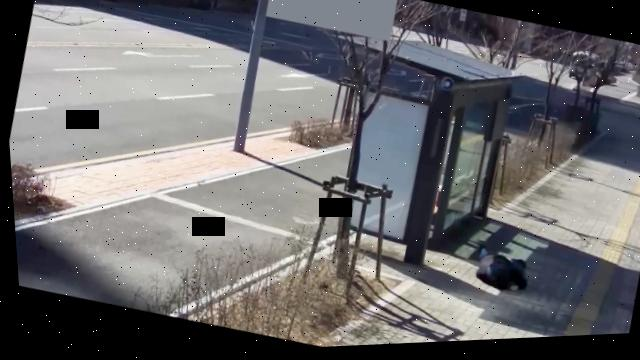fall: (458, 239, 533, 303)
